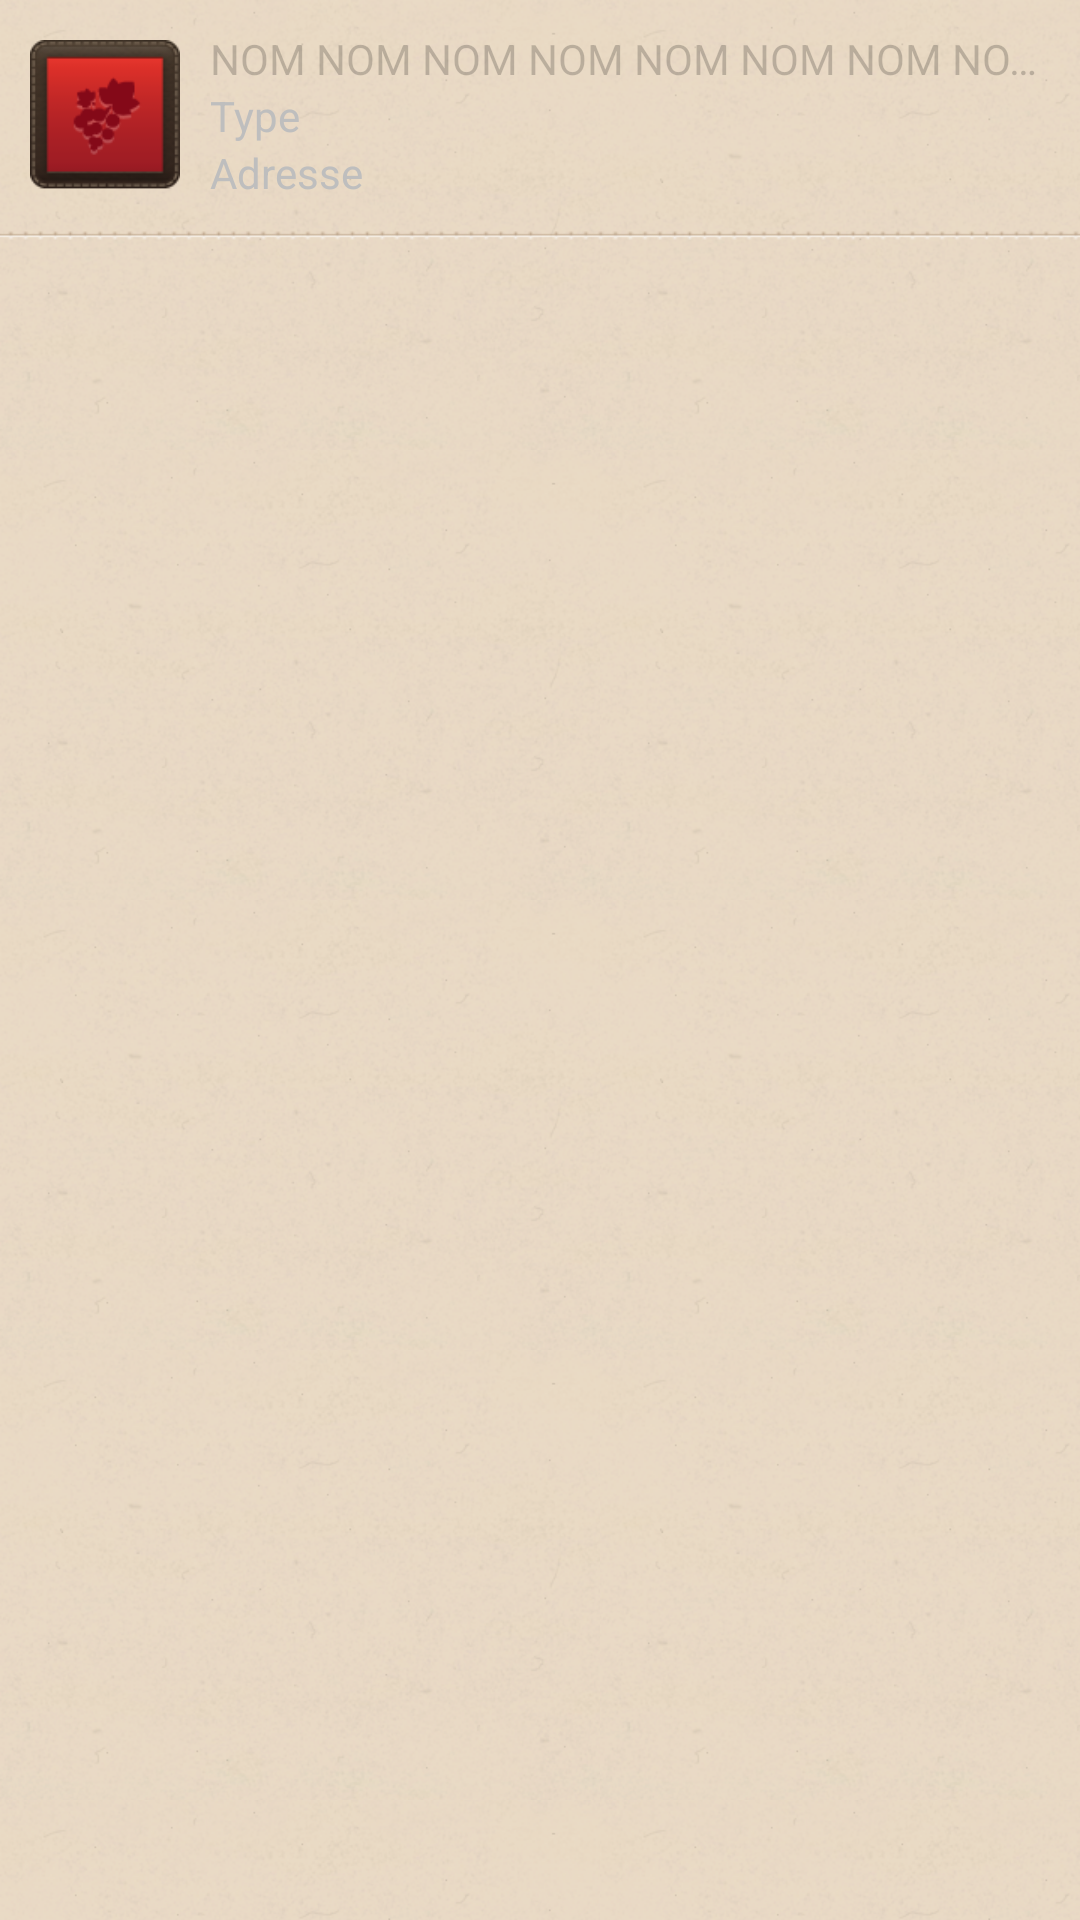

Icon click points for this 1080w x 1920h phone screenshot, format point (x, y):
Pictogramme: point (105, 114)
